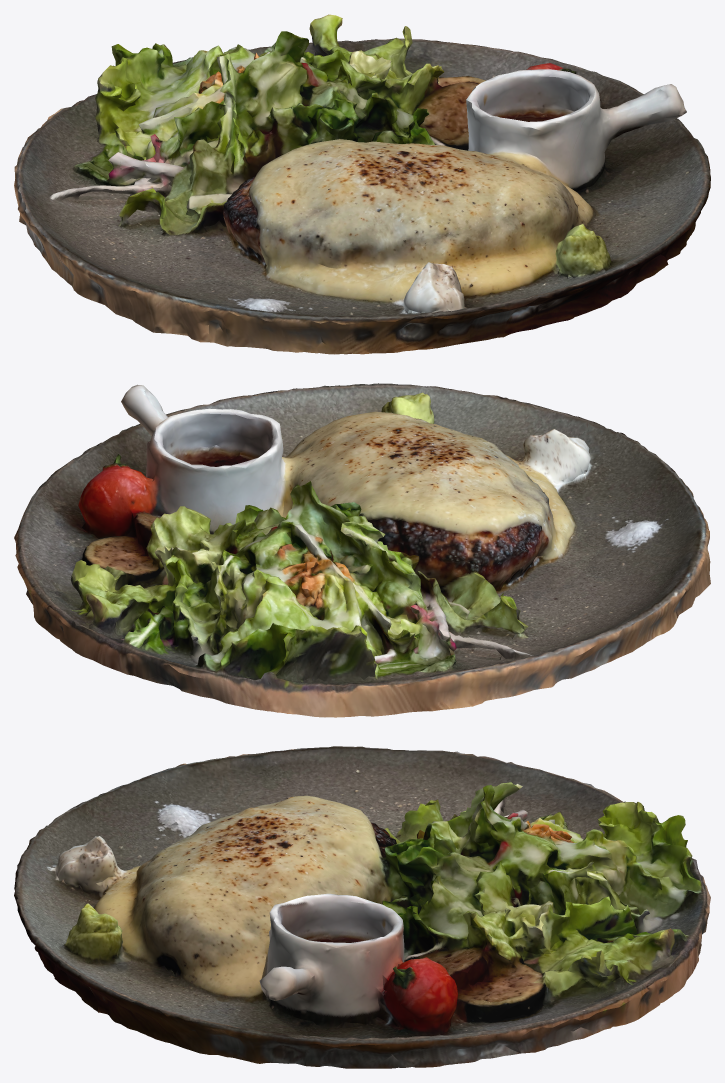
The model's file is Food 3D Model by Nicotrico.glb.
3 renders of one model, top to bottom at view 1: azimuth 30°, elevation 25°; view 2: azimuth 150°, elevation 25°; view 3: azimuth 270°, elevation 25°, orthographic.
Visible parts, largest first — view 1: Object_4; view 2: Object_4; view 3: Object_4.
Part boxes in pixels (box(x1,y1,x2,y2)): Object_4: box(14, 14, 710, 354); Object_4: box(14, 383, 710, 717); Object_4: box(14, 746, 710, 1068).
Size of the model in its own units: 0.281 by 0.0605 by 0.2808.
1 material, 1 textured.
